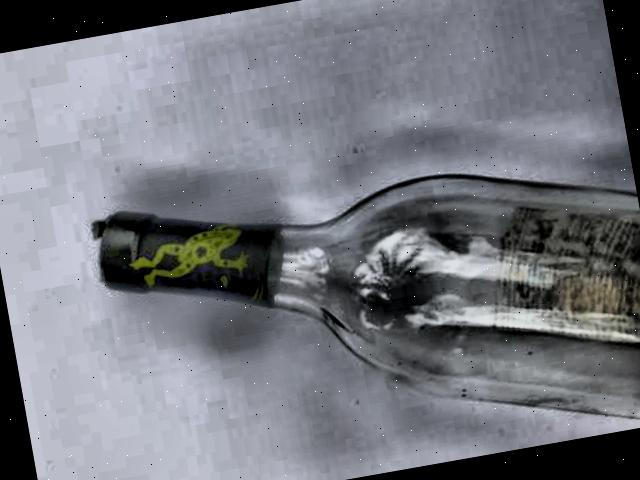Bottles: (72, 126, 640, 480)
